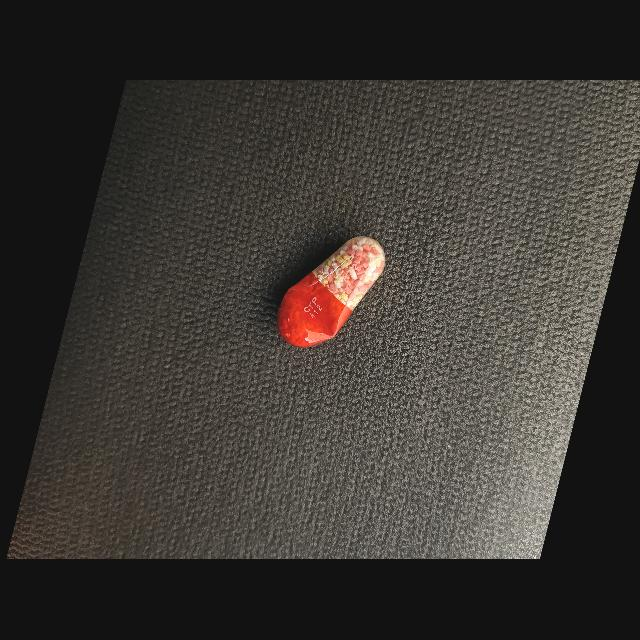Defective Capsule: (277, 237, 385, 348)
